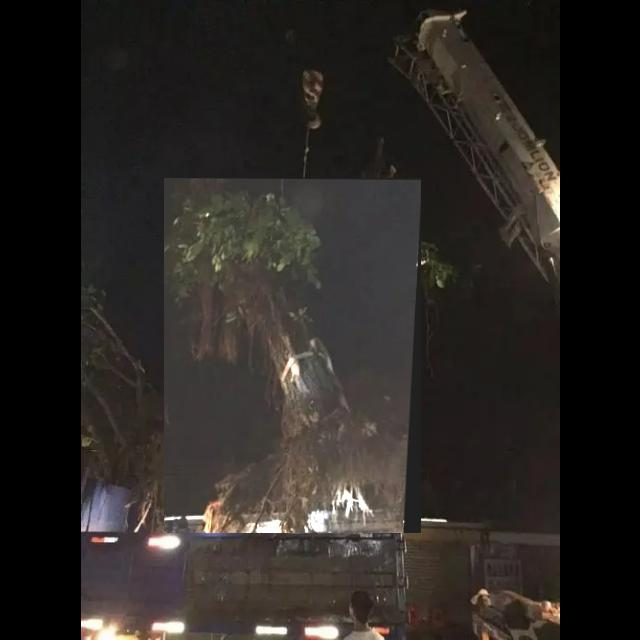fallen_tree: (164, 178, 422, 534)
